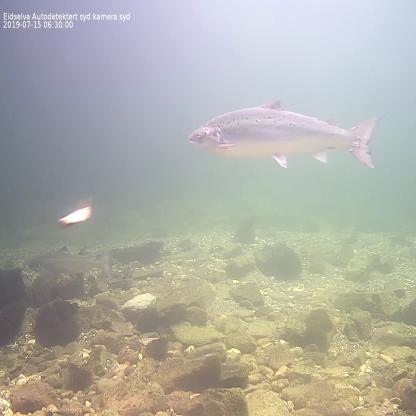salmon: (184, 94, 384, 174), (25, 243, 114, 283)
